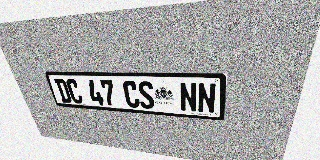4: (86, 80, 105, 105)
7: (99, 80, 118, 106)
C: (122, 81, 140, 108), (65, 79, 84, 104)
D: (54, 79, 73, 103)
N: (197, 83, 216, 114), (179, 82, 197, 112)
S: (137, 81, 155, 109)
